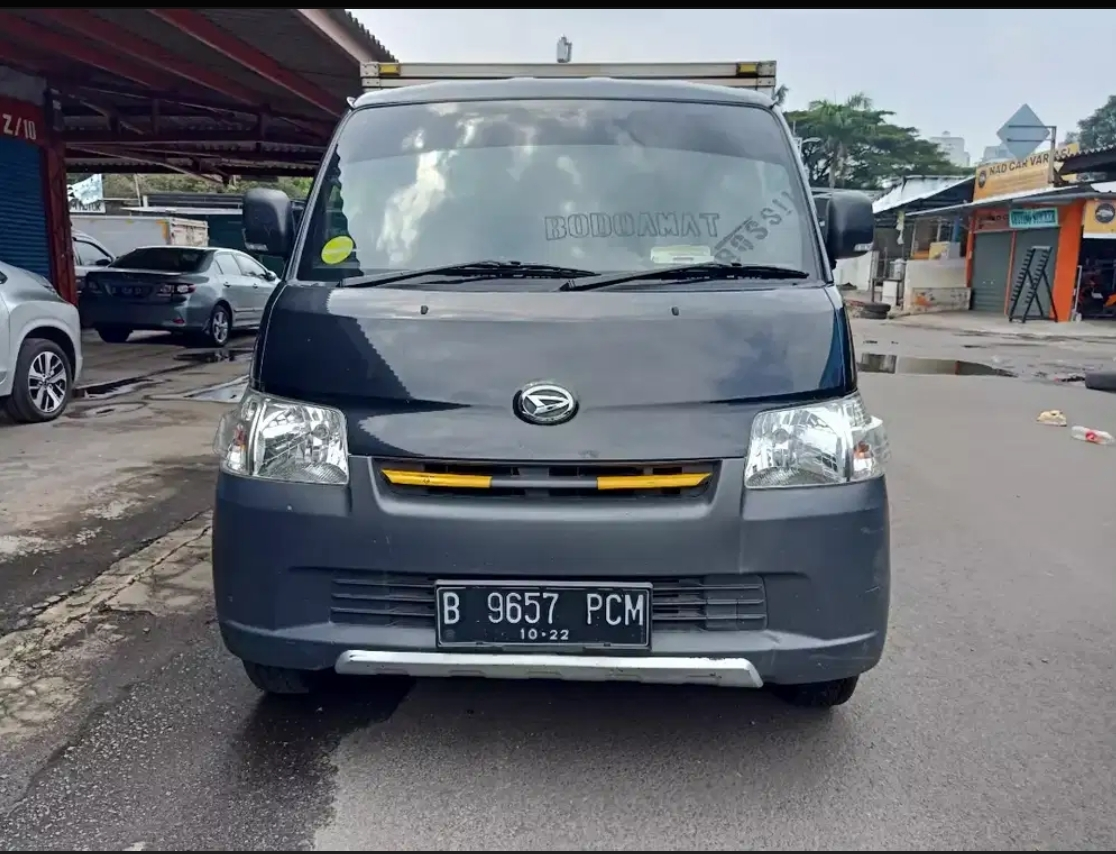plate: (438, 579, 651, 662)
